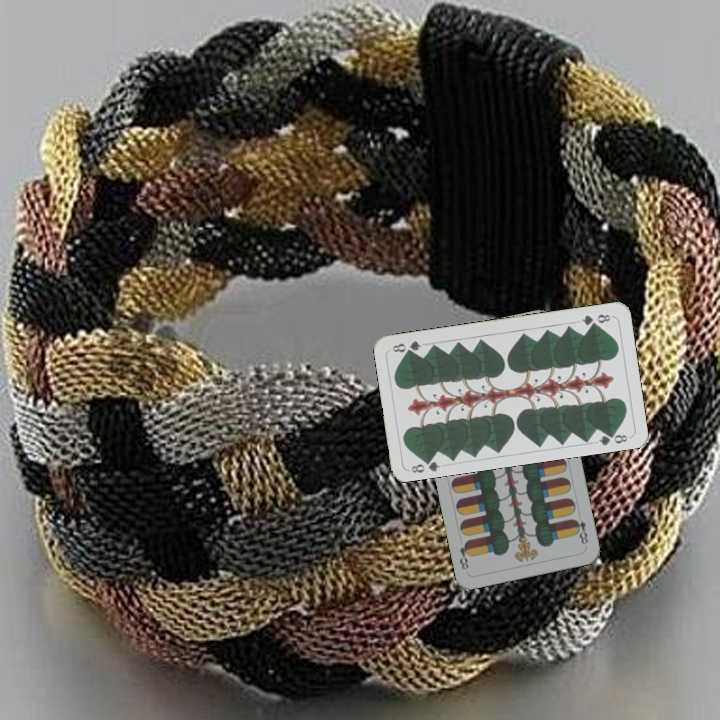E8: (570, 515, 590, 547)
G8: (407, 453, 442, 475), (578, 310, 613, 328)
